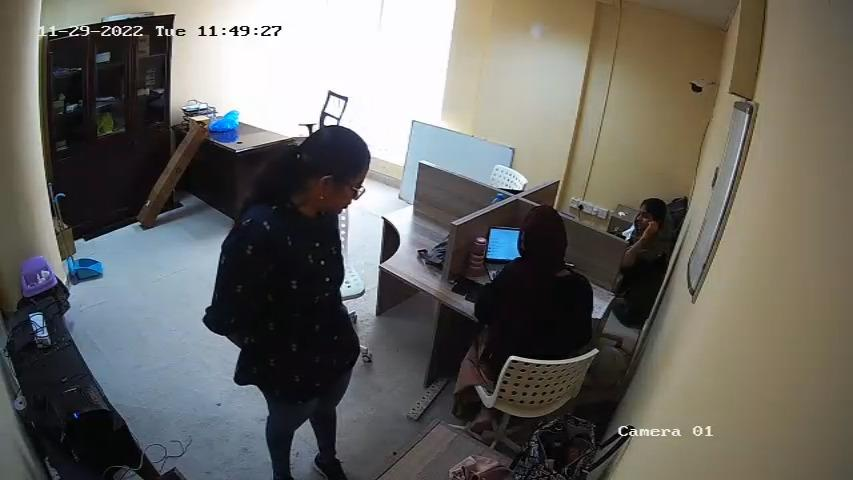no_apron: (254, 235, 355, 388)
